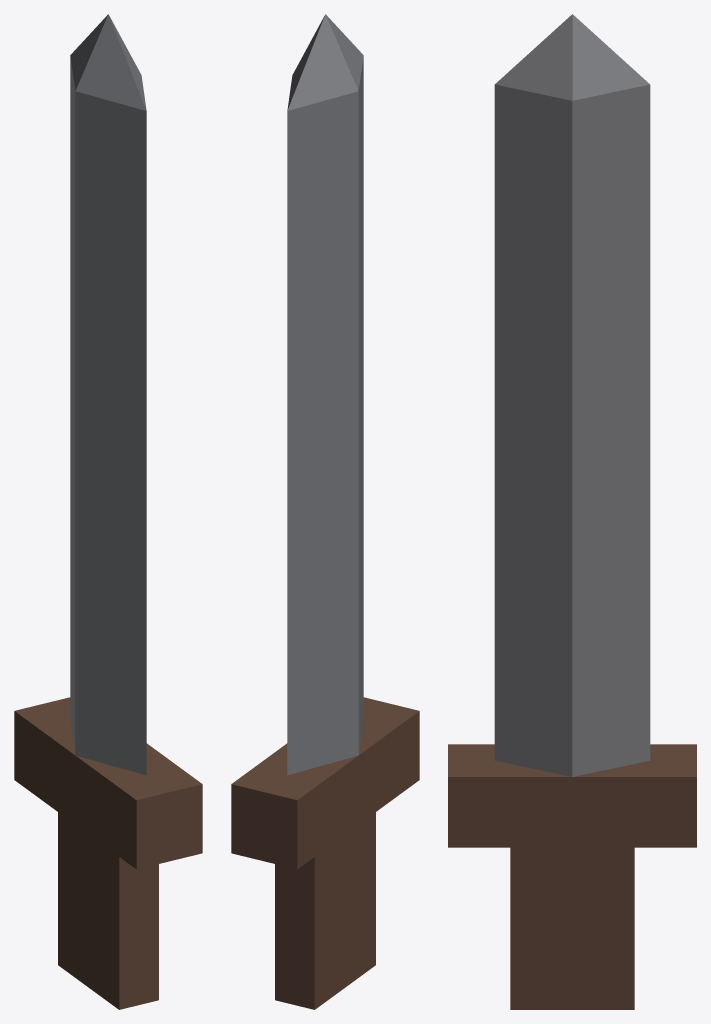
The picture shows the model from 3 angles, left to right: view 1: azimuth 30°, elevation 25°; view 2: azimuth 150°, elevation 25°; view 3: azimuth 270°, elevation 25°; orthographic projection.
Parts seen in each view (by area): view 1: Sword_0.16x0.05x0.7_1, Sword_0.16x0.05x0.7_0; view 2: Sword_0.16x0.05x0.7_1, Sword_0.16x0.05x0.7_0; view 3: Sword_0.16x0.05x0.7_1, Sword_0.16x0.05x0.7_0.
Boxes of the visible parts, <box> form: Sword_0.16x0.05x0.7_1: <box>70,14,146,775</box>; Sword_0.16x0.05x0.7_0: <box>14,697,202,1009</box>; Sword_0.16x0.05x0.7_1: <box>287,14,363,775</box>; Sword_0.16x0.05x0.7_0: <box>231,697,419,1009</box>; Sword_0.16x0.05x0.7_1: <box>494,14,650,776</box>; Sword_0.16x0.05x0.7_0: <box>448,744,696,1009</box>.
Size of the model in its own units: 0.05 by 0.7 by 0.16.
